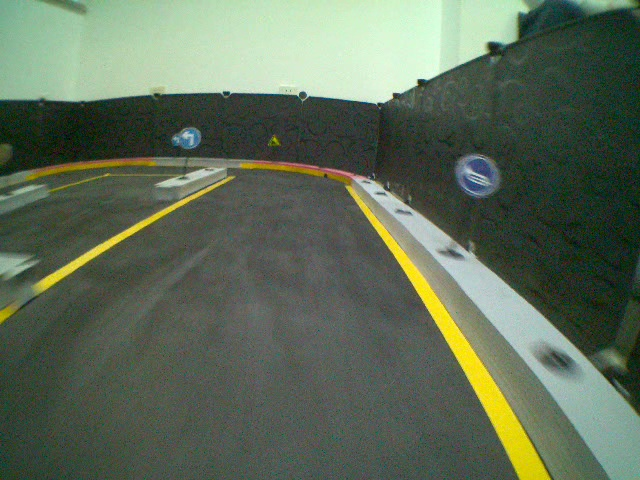fast: (266, 135, 281, 146)
horn: (453, 153, 501, 198)
turn: (177, 126, 200, 150)
